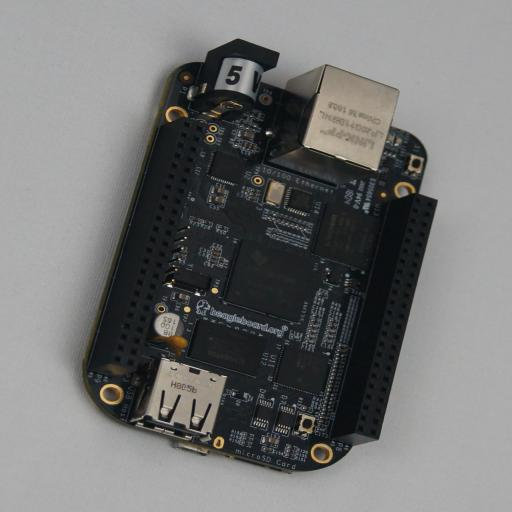Beaglebone Black: (78, 38, 438, 474)
